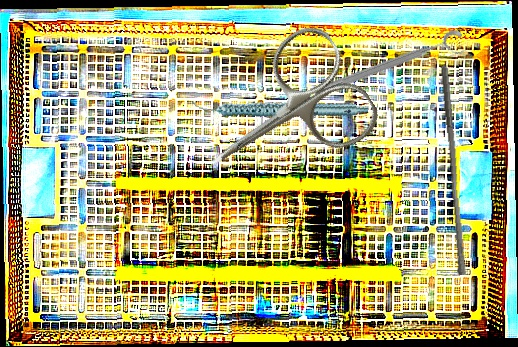Fixation Ring: (311, 27, 469, 110)
Handpiece: (190, 64, 369, 151)
Iris Scissors: (178, 17, 387, 215)
Pusher: (432, 64, 474, 276)
